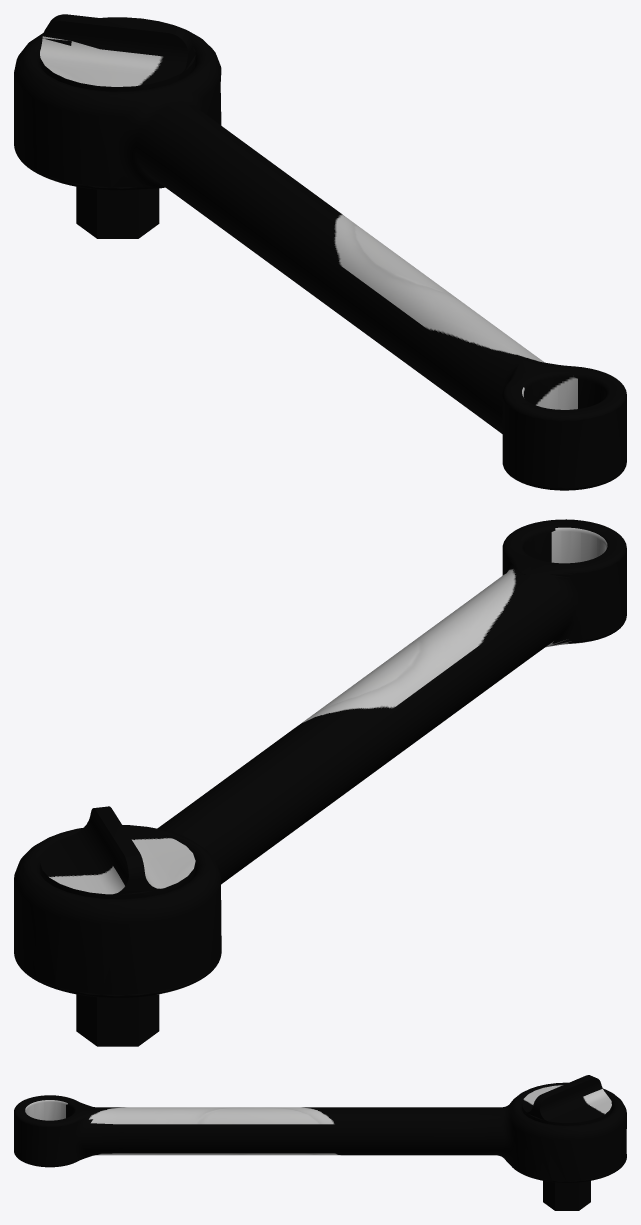
Rendered from ratchet.fbx.
3 views of the same model, one above another, from view 1: azimuth 30°, elevation 25°; view 2: azimuth 150°, elevation 25°; view 3: azimuth 270°, elevation 25° (orthographic). The views are drawn at different scales.
Parts seen in each view (by area): view 1: ratchet; view 2: ratchet; view 3: ratchet.
Part boxes in pixels (x1,y1,x2,y2): ratchet: (14, 14, 626, 490); ratchet: (14, 519, 626, 1046); ratchet: (14, 1075, 626, 1210).
Bounding box in the file's own units: 2000 × 2123 × 10197.
